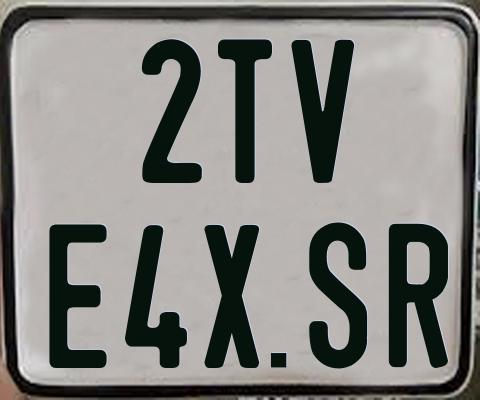2: (141, 39, 202, 183)
4: (125, 225, 188, 374)
E: (46, 222, 108, 367)
R: (388, 222, 447, 368)
S: (309, 221, 369, 373)
T: (218, 39, 272, 189)
V: (288, 37, 354, 180)
X: (203, 224, 263, 372)
